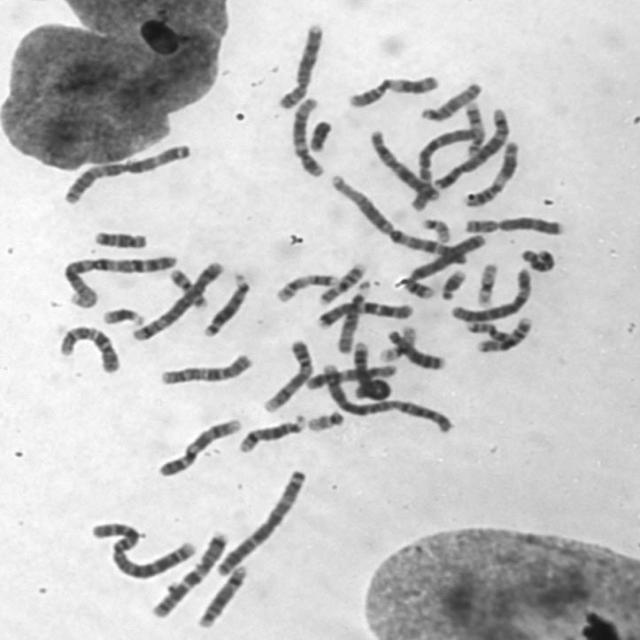A1: (330, 173, 469, 266), (63, 253, 178, 310)
A2: (321, 362, 455, 434), (89, 520, 199, 582)
A3: (216, 470, 307, 578), (61, 143, 191, 207)
B4: (402, 234, 485, 300), (350, 340, 394, 402)
B5: (131, 261, 224, 342), (432, 107, 510, 190)
C10: (57, 325, 122, 375), (158, 352, 252, 386)
C11: (461, 139, 519, 209), (347, 74, 441, 110)
C12: (290, 96, 325, 178), (306, 365, 398, 392)
C6: (409, 127, 483, 212), (448, 266, 533, 322)
C7: (150, 526, 230, 620), (312, 302, 414, 332)
C8: (274, 23, 326, 112), (463, 216, 565, 237)
C9: (157, 419, 243, 477), (260, 339, 314, 415)
D13: (201, 272, 251, 338), (386, 330, 446, 370)
D14: (196, 560, 248, 630), (238, 412, 307, 454)
D15: (333, 279, 382, 355), (420, 82, 482, 124)
E16: (474, 316, 534, 354), (317, 262, 366, 306)
E17: (274, 275, 341, 303), (461, 102, 487, 158)
E18: (90, 230, 150, 250), (520, 248, 557, 274)
F19: (379, 322, 420, 364), (475, 261, 500, 309)
F20: (167, 267, 209, 311), (464, 319, 512, 342)
G21: (102, 306, 146, 328), (440, 268, 468, 302)
G22: (418, 216, 452, 245), (306, 411, 344, 434)
X: (367, 128, 442, 202)
Y: (308, 118, 332, 152)
